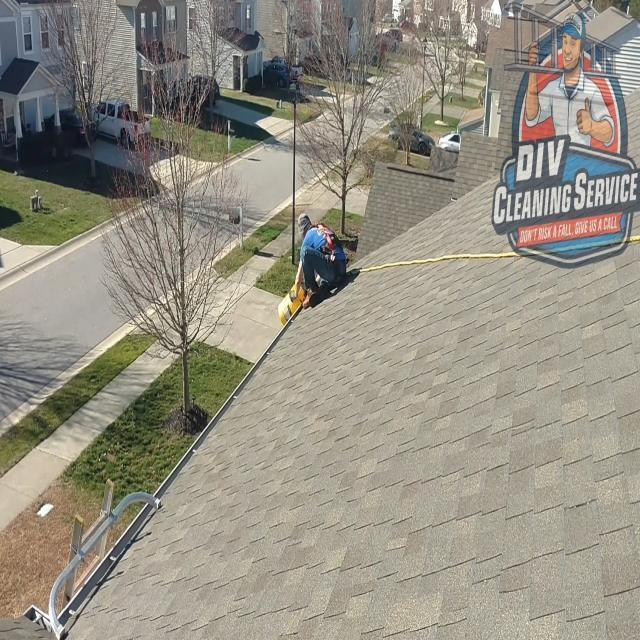Arnes_seguridad: (306, 219, 349, 287)
